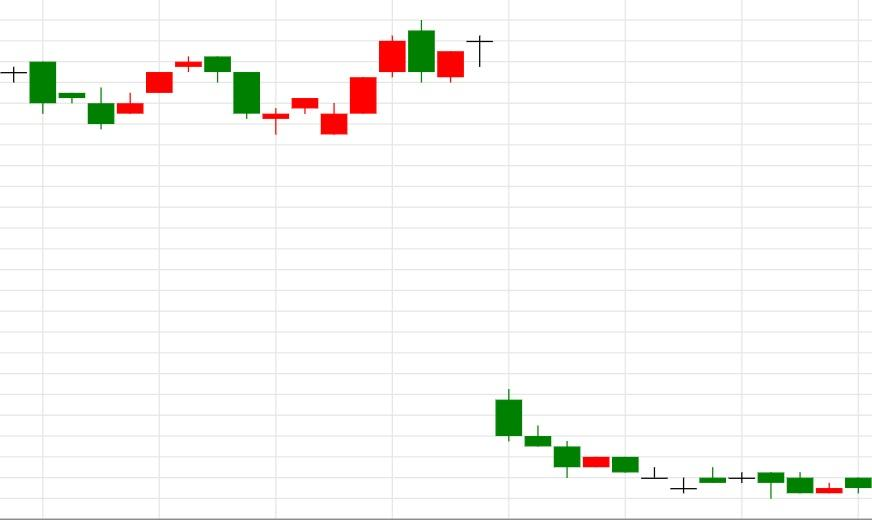bearish_engulfing_fall: (321, 20, 436, 135)
three_white_soldiers_rise: (203, 34, 407, 136)
